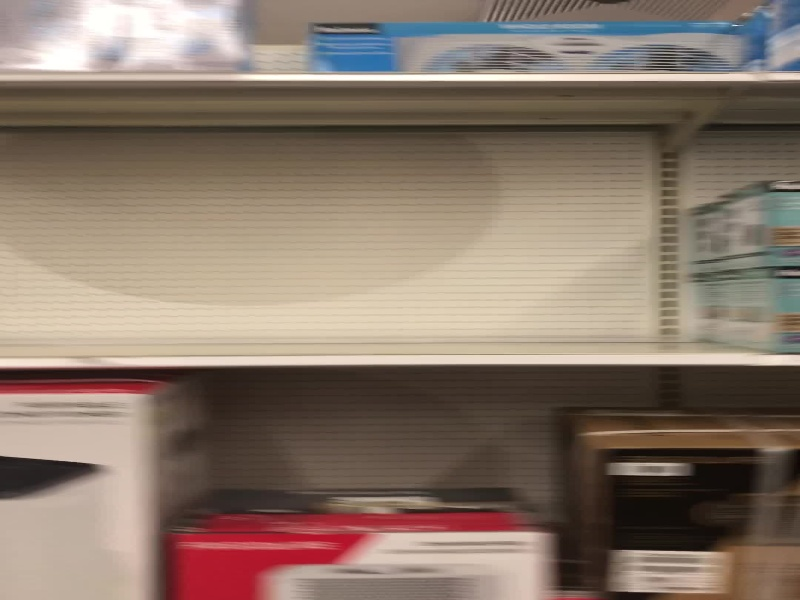void: (1, 84, 701, 356)
